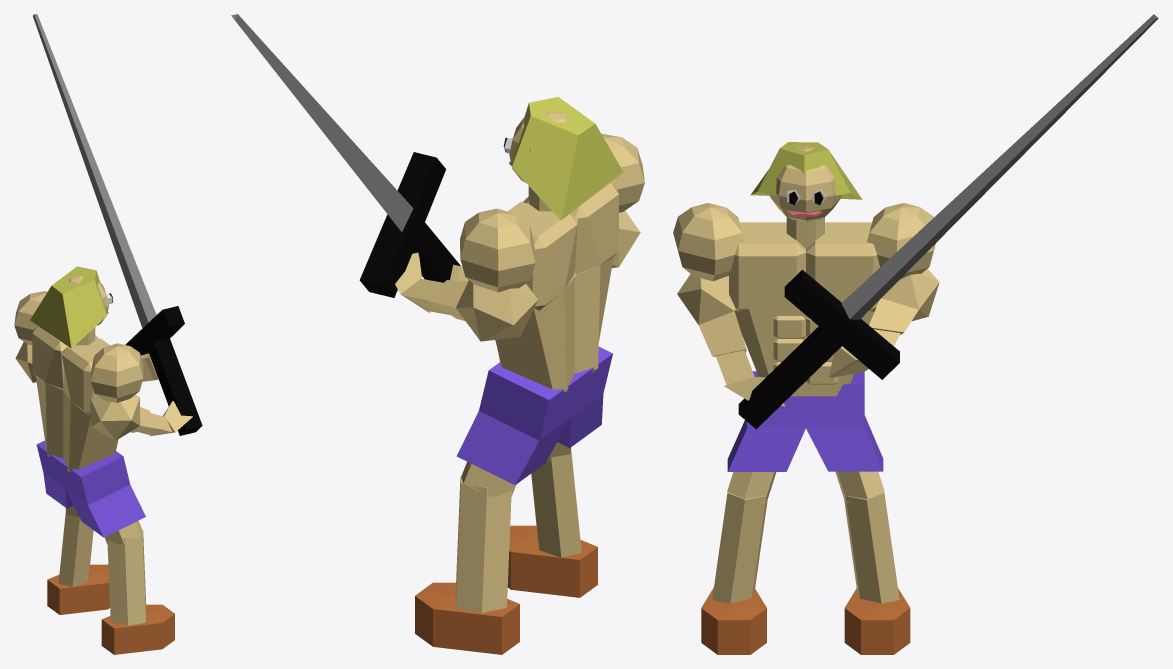
Rendered from toybarbarrian.fbx.
3 views of the same model, side by side, from view 1: azimuth 30°, elevation 25°; view 2: azimuth 150°, elevation 25°; view 3: azimuth 270°, elevation 25° (orthographic). The views are drawn at different scales.
Parts seen in each view (by area): view 1: Cube; view 2: Cube; view 3: Cube.
Part boxes in pixels (left/top/right/bottom): Cube: left=14, top=14, right=202, bottom=654; Cube: left=231, top=14, right=644, bottom=654; Cube: left=673, top=14, right=1158, bottom=654.
Size of the model in its own units: 506 by 1886 by 1265.
